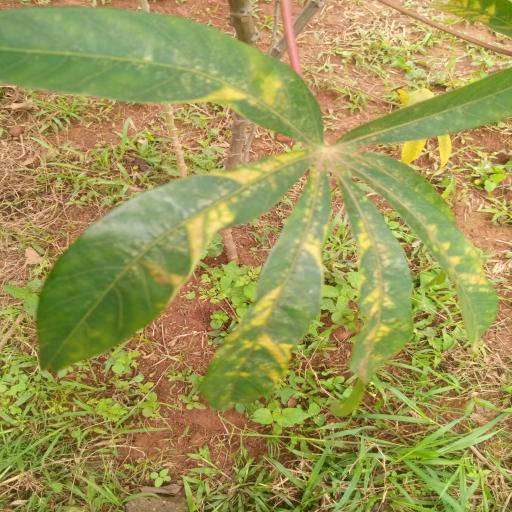Cassava_Mosaic: (34, 10, 512, 419)
